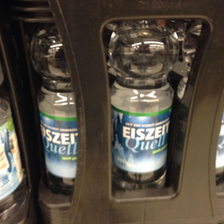water: (108, 21, 175, 189), (31, 26, 77, 191)
